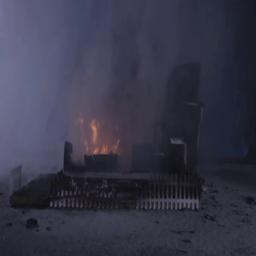fire: (72, 106, 124, 169)
smoke: (0, 0, 159, 114)
